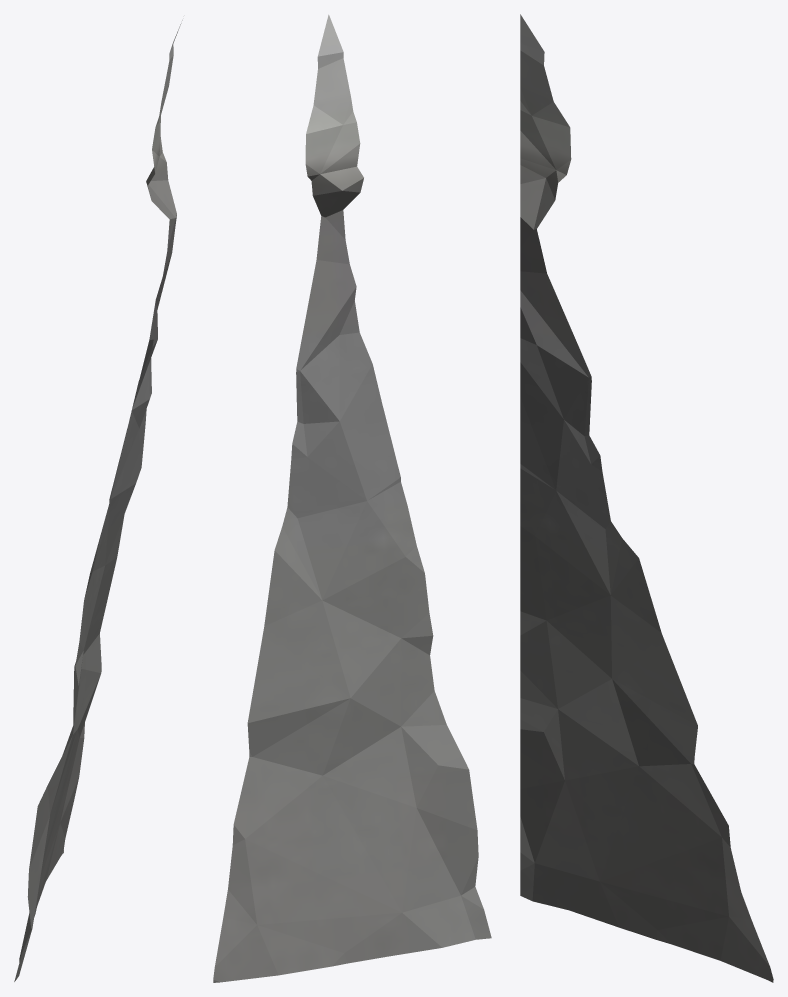
The picture shows the model from 3 angles, left to right: view 1: azimuth 30°, elevation 25°; view 2: azimuth 150°, elevation 25°; view 3: azimuth 270°, elevation 25°; orthographic projection. The views are drawn at different scales.
Size of the model in its own units: 0.1009 by 0.523 by 0.1238.
Materials: 1 (1 with a texture image).
